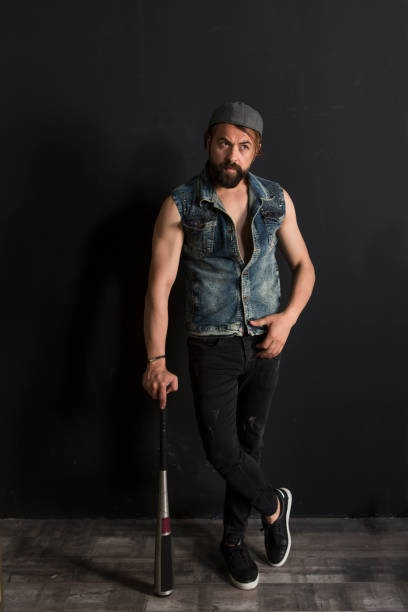bita: (149, 375, 180, 597)
